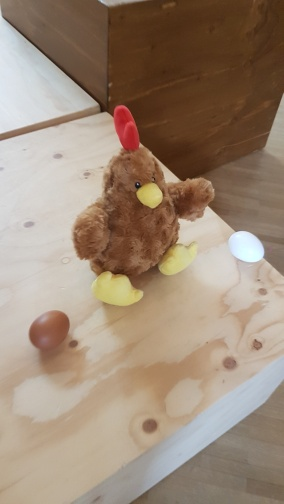chicken: (70, 101, 217, 309)
egg: (25, 309, 71, 353), (225, 229, 266, 264)
